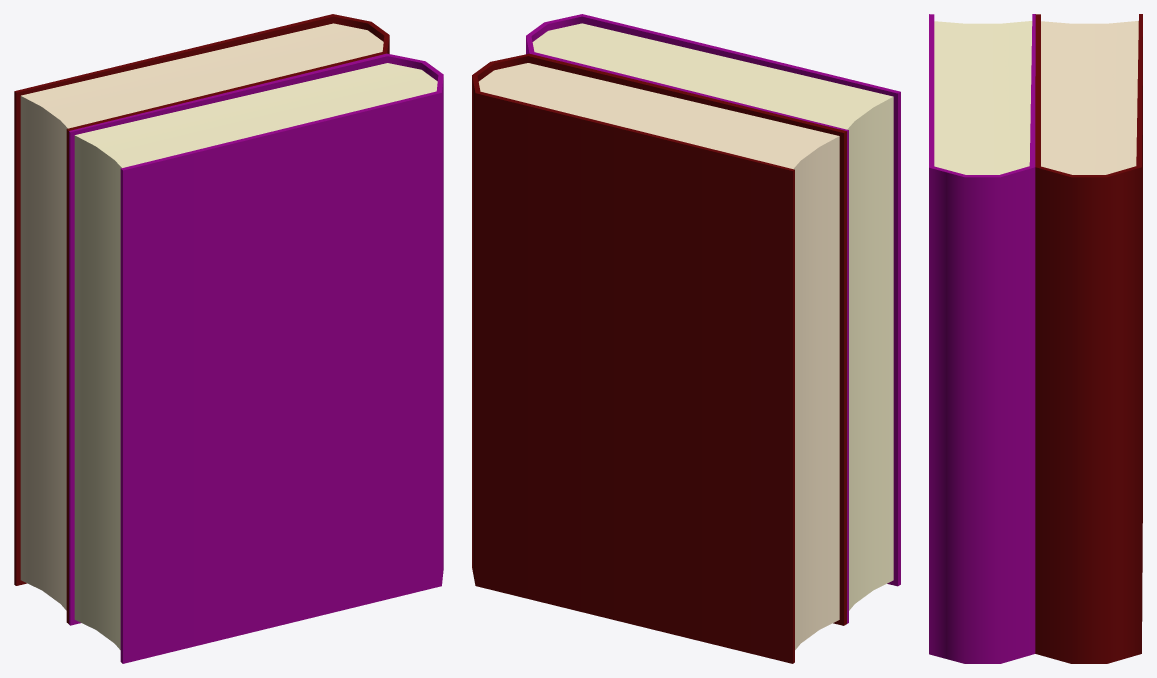
Rendered from Books_02.fbx.
3 renders of one model, left to right at view 1: azimuth 30°, elevation 25°; view 2: azimuth 150°, elevation 25°; view 3: azimuth 270°, elevation 25°, orthographic.
Parts seen in each view (by area): view 1: Books02_LOD00; view 2: Books02_LOD00; view 3: Books02_LOD00.
Part boxes in pixels (<box>): Books02_LOD00: <box>14,14,443,663</box>; Books02_LOD00: <box>472,14,900,663</box>; Books02_LOD00: <box>929,14,1142,663</box>.
Size of what is drawn, in the model's own units: 17.93 by 24.92 by 9.93.
